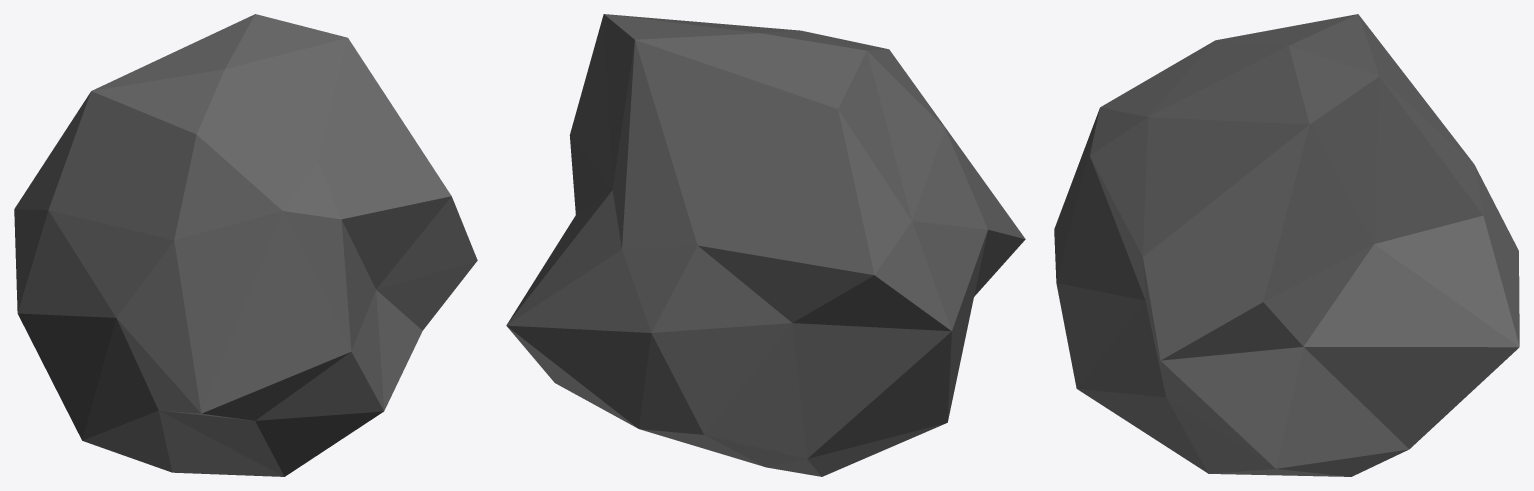
Rendered from Dest_Desert_Stone1.FBX.
3 renders of one model, left to right at view 1: azimuth 30°, elevation 25°; view 2: azimuth 150°, elevation 25°; view 3: azimuth 270°, elevation 25°, orthographic. The views are drawn at different scales.
Parts seen in each view (by area): view 1: GeoSphere002; view 2: GeoSphere002; view 3: GeoSphere002.
Part boxes in pixels (x1,y1,x2,y2): GeoSphere002: (14,14,477,476); GeoSphere002: (506,14,1025,476); GeoSphere002: (1054,14,1519,476).
Bounding box in the file's own units: 17.36 × 17.11 × 16.77.
